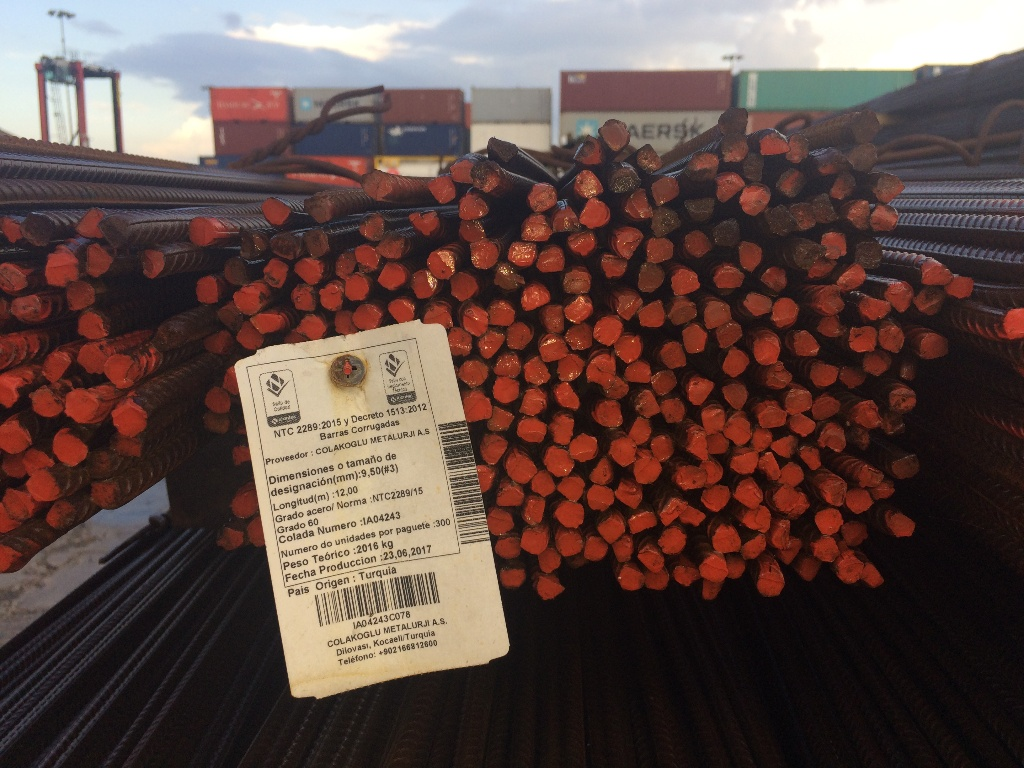dipstick: (104, 354, 139, 387), (65, 389, 98, 424), (112, 404, 148, 436), (21, 213, 54, 247), (52, 434, 86, 466), (46, 253, 78, 284), (471, 160, 502, 192), (600, 119, 630, 151), (26, 471, 59, 500), (587, 353, 616, 386), (30, 386, 61, 416), (543, 447, 575, 476), (872, 173, 904, 202), (653, 208, 683, 238), (470, 238, 499, 269), (579, 200, 611, 228), (615, 227, 643, 259), (5, 489, 34, 519), (574, 136, 604, 165), (2, 422, 30, 453), (851, 111, 879, 142), (775, 168, 807, 195), (852, 399, 881, 428), (98, 216, 128, 244), (42, 352, 70, 382), (361, 171, 391, 199), (740, 187, 770, 215), (770, 298, 798, 328), (506, 456, 537, 483), (85, 244, 111, 276), (486, 137, 518, 163), (562, 296, 594, 322), (77, 345, 105, 374), (305, 195, 334, 223), (464, 392, 492, 421), (574, 169, 603, 197), (688, 153, 716, 182), (716, 172, 744, 201), (847, 142, 876, 170), (10, 295, 40, 322), (76, 312, 106, 339), (480, 434, 507, 464), (610, 437, 637, 467), (885, 282, 912, 312), (239, 229, 265, 260), (806, 362, 837, 388), (110, 432, 143, 456), (519, 388, 547, 416), (522, 214, 550, 242), (652, 177, 680, 205), (816, 287, 844, 315), (46, 500, 73, 529), (592, 318, 621, 345), (593, 400, 622, 427), (597, 516, 626, 543), (613, 482, 642, 509), (623, 191, 652, 218), (685, 195, 714, 222), (913, 287, 942, 314), (24, 450, 54, 476), (233, 287, 263, 313), (297, 314, 327, 340), (428, 251, 454, 281), (921, 258, 951, 284), (860, 294, 891, 319), (1, 264, 28, 292), (77, 210, 104, 238), (262, 197, 290, 224), (493, 376, 521, 403), (553, 382, 580, 410), (528, 184, 556, 211), (521, 285, 549, 312), (699, 555, 727, 582), (612, 164, 640, 191), (724, 417, 751, 445), (735, 480, 762, 508), (819, 424, 846, 452), (789, 202, 816, 230), (870, 205, 898, 232), (295, 258, 324, 284), (409, 210, 438, 236), (459, 194, 488, 220), (638, 264, 664, 293), (742, 507, 771, 533), (675, 465, 706, 489), (353, 304, 380, 331), (615, 292, 642, 319), (566, 322, 593, 349), (703, 301, 730, 328), (189, 217, 215, 245), (263, 259, 289, 287), (451, 272, 477, 300), (555, 501, 583, 527), (634, 458, 662, 484), (721, 383, 747, 411), (764, 363, 792, 389), (720, 137, 748, 163), (270, 234, 299, 259), (508, 242, 537, 267), (550, 416, 574, 446), (816, 149, 846, 173), (304, 231, 330, 258), (428, 177, 454, 204), (378, 262, 405, 288), (410, 270, 436, 297), (569, 434, 596, 460), (568, 229, 595, 255), (659, 528, 686, 554), (685, 230, 712, 256), (713, 527, 740, 553), (815, 508, 842, 534), (889, 388, 916, 414), (855, 241, 882, 267), (463, 307, 488, 335), (487, 509, 515, 534), (701, 486, 729, 511), (820, 478, 845, 506), (495, 265, 524, 289), (760, 131, 789, 155), (740, 241, 762, 272), (66, 282, 92, 308), (495, 352, 521, 378), (558, 355, 584, 381), (615, 335, 641, 361), (205, 387, 230, 414), (460, 360, 487, 385), (557, 476, 584, 501), (587, 484, 612, 511), (646, 239, 673, 264), (713, 220, 740, 245), (811, 537, 838, 562), (360, 213, 384, 241), (517, 419, 545, 443), (552, 207, 580, 231), (848, 327, 876, 351), (920, 333, 948, 357), (847, 200, 871, 228), (195, 276, 218, 305), (786, 134, 809, 163), (155, 323, 180, 349), (91, 482, 117, 507), (237, 323, 262, 349), (292, 285, 317, 311), (344, 276, 369, 302), (387, 299, 413, 324), (506, 323, 531, 349), (538, 246, 563, 272), (583, 536, 609, 561), (634, 390, 659, 416), (723, 350, 748, 376), (821, 232, 847, 257), (447, 328, 471, 355), (524, 357, 548, 384), (618, 566, 645, 590), (672, 270, 699, 294), (772, 486, 799, 510), (838, 556, 862, 583), (723, 107, 747, 134), (846, 489, 873, 513), (891, 455, 918, 479), (830, 175, 857, 199), (216, 526, 244, 549), (563, 271, 591, 294), (251, 313, 283, 333), (423, 307, 452, 329), (683, 324, 705, 353), (814, 194, 836, 223), (862, 353, 891, 375), (379, 233, 404, 258), (478, 332, 503, 357), (639, 302, 664, 327), (794, 331, 819, 356), (754, 340, 779, 365), (758, 570, 783, 595), (232, 493, 256, 519), (489, 302, 515, 326), (556, 532, 582, 556), (689, 378, 713, 404), (786, 389, 812, 413), (838, 265, 864, 289), (225, 258, 248, 285), (487, 408, 514, 431), (521, 531, 548, 554), (839, 365, 866, 388), (356, 245, 378, 273), (536, 578, 564, 600), (539, 338, 567, 360), (667, 301, 695, 323), (714, 267, 742, 289), (201, 412, 230, 433), (544, 305, 565, 334), (601, 254, 626, 278), (590, 458, 614, 483), (661, 501, 686, 525), (650, 435, 674, 460), (638, 145, 662, 170), (879, 327, 903, 352), (947, 274, 972, 298), (1003, 309, 1023, 339), (320, 285, 343, 311), (744, 292, 770, 315), (701, 408, 724, 434), (142, 250, 164, 277), (629, 418, 651, 445), (812, 396, 839, 418), (760, 453, 781, 481), (660, 343, 684, 367), (779, 461, 803, 485), (791, 412, 815, 436), (533, 470, 556, 495), (639, 549, 664, 572), (673, 564, 698, 587), (652, 371, 677, 394), (459, 220, 485, 242), (630, 512, 656, 534), (759, 406, 785, 428), (494, 537, 522, 557), (451, 161, 475, 184), (742, 534, 765, 558), (890, 514, 914, 537), (842, 523, 867, 545), (498, 567, 524, 588), (731, 452, 757, 473), (701, 459, 722, 485), (718, 324, 741, 347), (816, 314, 839, 337), (859, 465, 882, 488), (762, 268, 786, 290), (681, 503, 705, 525), (797, 558, 821, 580), (771, 436, 796, 457), (217, 311, 243, 331), (624, 363, 650, 383), (688, 433, 707, 460), (661, 400, 685, 421), (524, 498, 543, 524), (774, 520, 791, 549), (247, 518, 265, 545), (497, 488, 524, 506), (539, 550, 561, 572), (335, 311, 356, 334), (612, 537, 632, 561), (864, 562, 884, 586), (799, 447, 819, 470), (3, 217, 22, 241), (753, 429, 772, 451)
